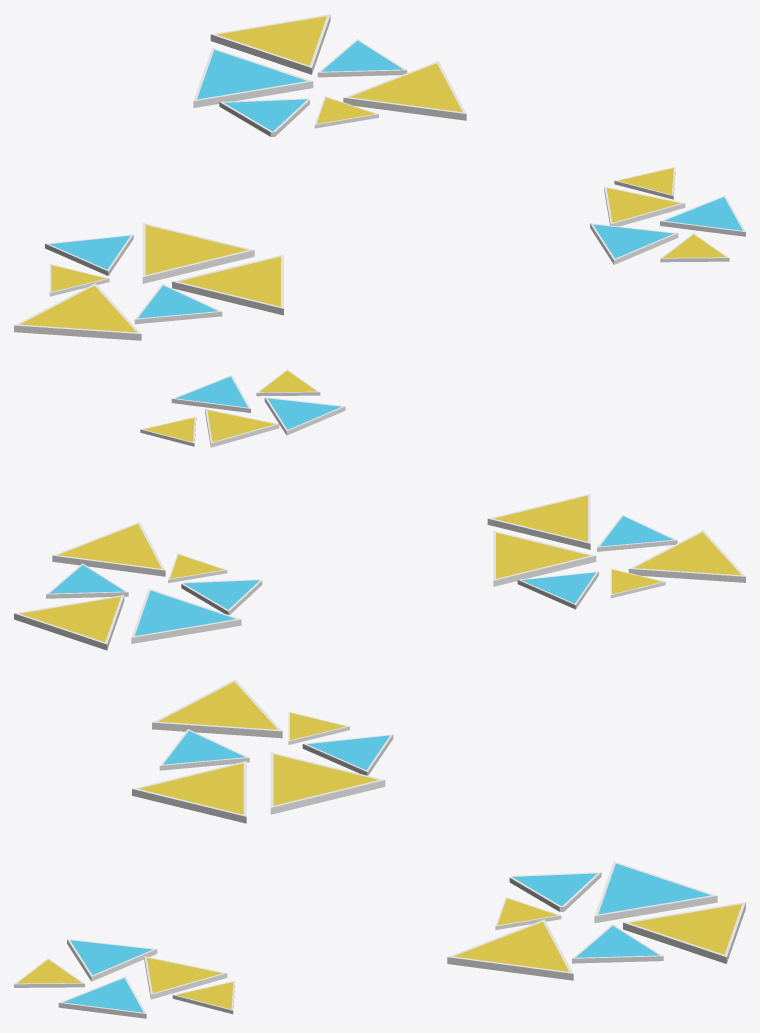
File: s_platform.obj
3 views of the same model, one above another, from view 1: azimuth 30°, elevation 25°; view 2: azimuth 150°, elevation 25°; view 3: azimuth 270°, elevation 25° (orthographic). The views are drawn at different scales.
Parts seen in each view (by area): view 1: Cylinder.085_m_yellow, Cylinder.088_m_yellow, Cylinder.089_m_yellow, Cylinder.082_m_yellow, Cylinder.091_m_blue, Cylinder.083_m_yellow, Cylinder.082_m_white, Cylinder.088_m_white, Cylinder.089_m_white, Cylinder.091_m_white, Cylinder.085_m_white, Cylinder.083_m_white (+18 smaller); view 2: Cylinder.091_m_blue, Cylinder.088_m_yellow, Cylinder.082_m_yellow, Cylinder.089_m_yellow, Cylinder.083_m_yellow, Cylinder.085_m_yellow, Cylinder.082_m_white, Cylinder.088_m_white, Cylinder.089_m_white, Cylinder.091_m_white, Cylinder.083_m_white, Cylinder.085_m_white (+18 smaller); view 3: Cylinder.085_m_yellow, Cylinder.089_m_yellow, Cylinder.083_m_yellow, Cylinder.091_m_blue, Cylinder.088_m_yellow, Cylinder.082_m_yellow, Cylinder.082_m_white, Cylinder.088_m_white, Cylinder.091_m_white, Cylinder.089_m_white, Cylinder.085_m_white, Cylinder.083_m_white (+18 smaller).
Part boxes in pixels (bbox=[...]): Cylinder.085_m_yellow: bbox=[145, 225, 247, 274]; Cylinder.088_m_yellow: bbox=[349, 63, 462, 112]; Cylinder.089_m_yellow: bbox=[217, 16, 326, 65]; Cylinder.082_m_yellow: bbox=[20, 285, 136, 332]; Cylinder.091_m_blue: bbox=[197, 50, 306, 99]; Cylinder.083_m_yellow: bbox=[179, 256, 280, 306]; Cylinder.082_m_white: bbox=[14, 283, 141, 340]; Cylinder.088_m_white: bbox=[343, 61, 466, 120]; Cylinder.089_m_white: bbox=[210, 14, 330, 74]; Cylinder.091_m_white: bbox=[193, 47, 313, 107]; Cylinder.085_m_white: bbox=[142, 223, 254, 283]; Cylinder.083_m_white: bbox=[172, 254, 283, 315]; Cylinder.091_m_blue: bbox=[135, 590, 235, 635]; Cylinder.088_m_yellow: bbox=[58, 524, 161, 568]; Cylinder.082_m_yellow: bbox=[634, 532, 741, 575]; Cylinder.089_m_yellow: bbox=[20, 596, 120, 642]; Cylinder.083_m_yellow: bbox=[494, 495, 587, 541]; Cylinder.085_m_yellow: bbox=[496, 532, 589, 578]; Cylinder.082_m_white: bbox=[628, 530, 745, 582]; Cylinder.088_m_white: bbox=[52, 521, 165, 576]; Cylinder.089_m_white: bbox=[14, 595, 124, 650]; Cylinder.091_m_white: bbox=[131, 588, 241, 643]; Cylinder.083_m_white: bbox=[487, 493, 590, 549]; Cylinder.085_m_white: bbox=[493, 530, 596, 586]; Cylinder.085_m_yellow: bbox=[273, 754, 378, 805]; Cylinder.089_m_yellow: bbox=[630, 904, 741, 954]; Cylinder.083_m_yellow: bbox=[138, 763, 243, 814]; Cylinder.091_m_blue: bbox=[598, 863, 710, 914]; Cylinder.088_m_yellow: bbox=[453, 922, 568, 971]; Cylinder.082_m_yellow: bbox=[158, 682, 277, 729]; Cylinder.082_m_white: bbox=[152, 679, 282, 738]; Cylinder.088_m_white: bbox=[447, 919, 573, 980]; Cylinder.091_m_white: bbox=[594, 861, 717, 923]; Cylinder.089_m_white: bbox=[623, 902, 745, 963]; Cylinder.085_m_white: bbox=[270, 752, 385, 814]; Cylinder.083_m_white: bbox=[132, 761, 246, 823].
Size of the model in its own units: 51.71 by 0.4958 by 47.92.
